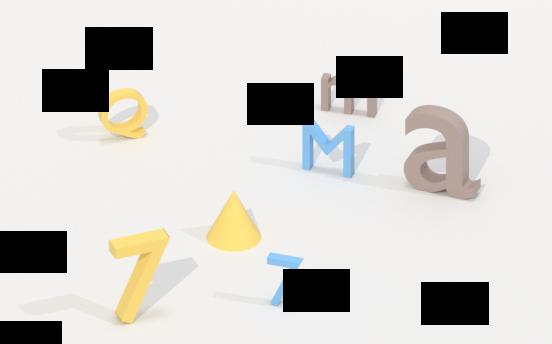7: (100, 231, 174, 328), (261, 250, 307, 309)
M-hoa: (297, 113, 360, 179)
a: (398, 104, 485, 202)
m: (315, 69, 382, 121)
non: (200, 190, 268, 255)
q: (95, 86, 153, 143)
